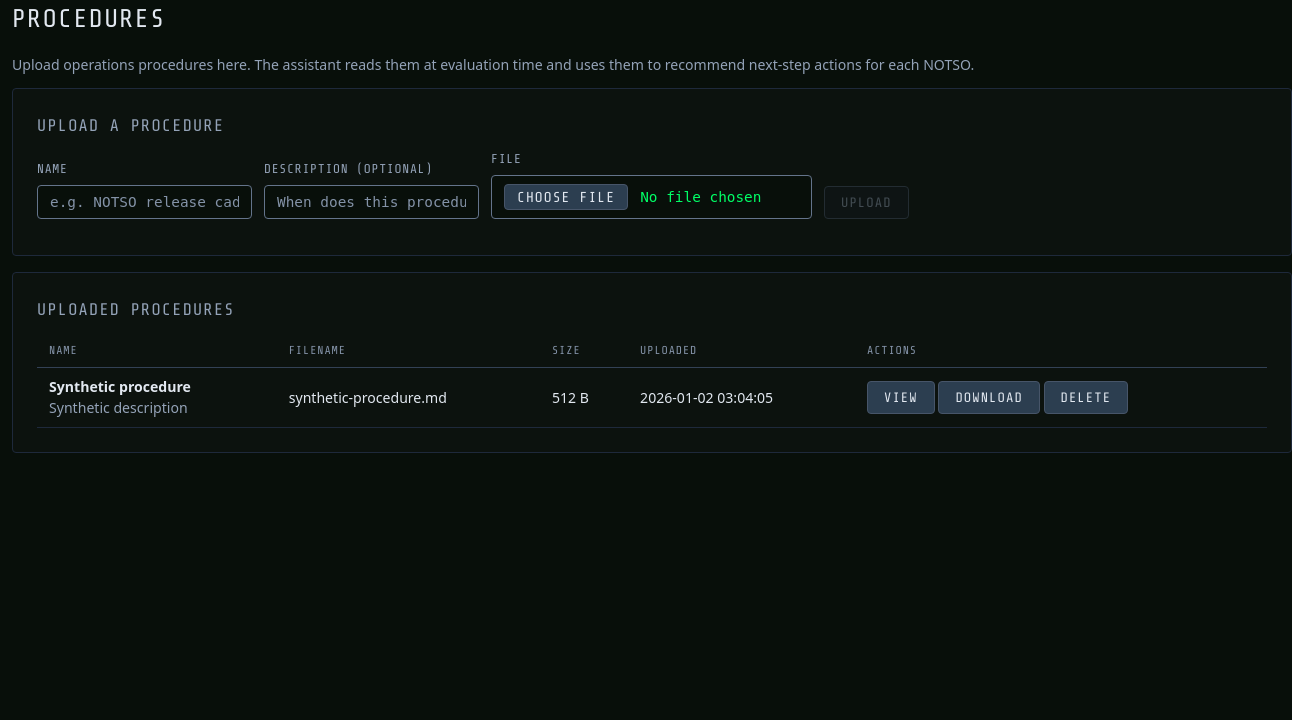
Test case: the procedures page › shows why a download failed, or that it failed, and clears that when one works
Click the button "Download" at (989, 397), box 938,381 -> 1040,414
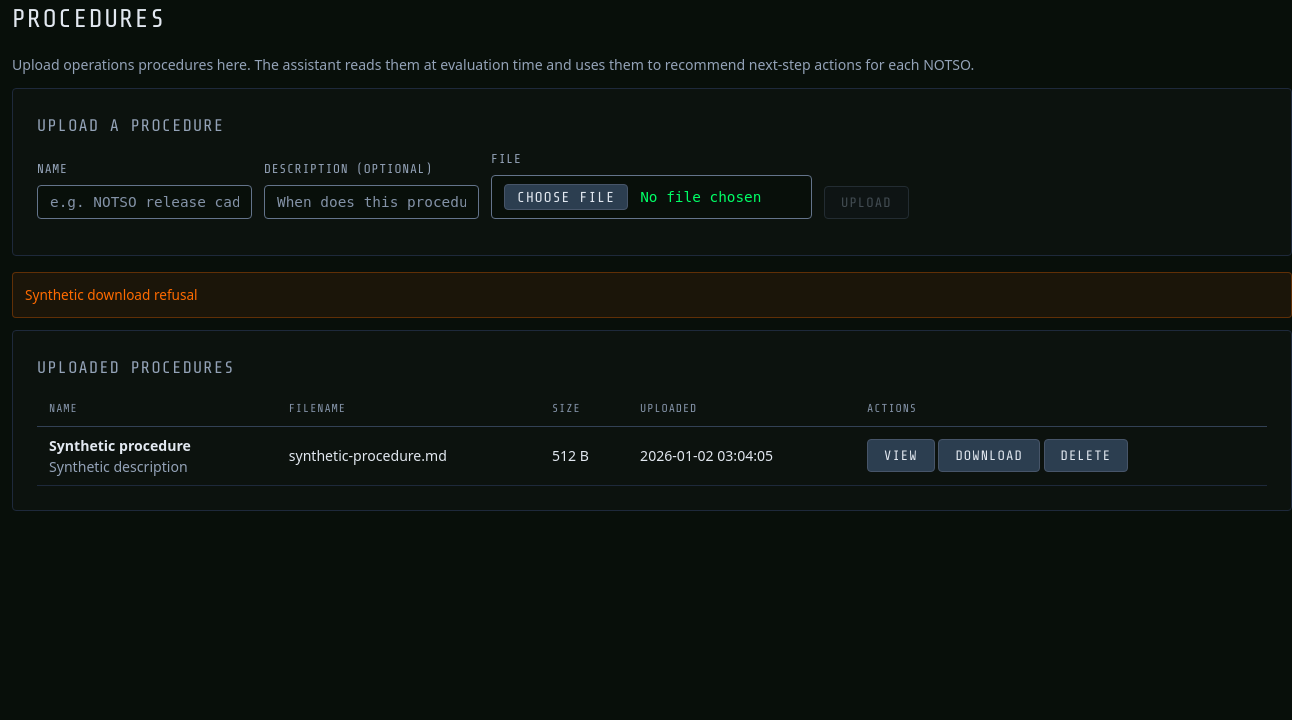
Result: the text "Synthetic download refusal" is shown at 12,272 -> 1291,318
Click the button "Download" at (989, 456), box 938,439 -> 1040,472
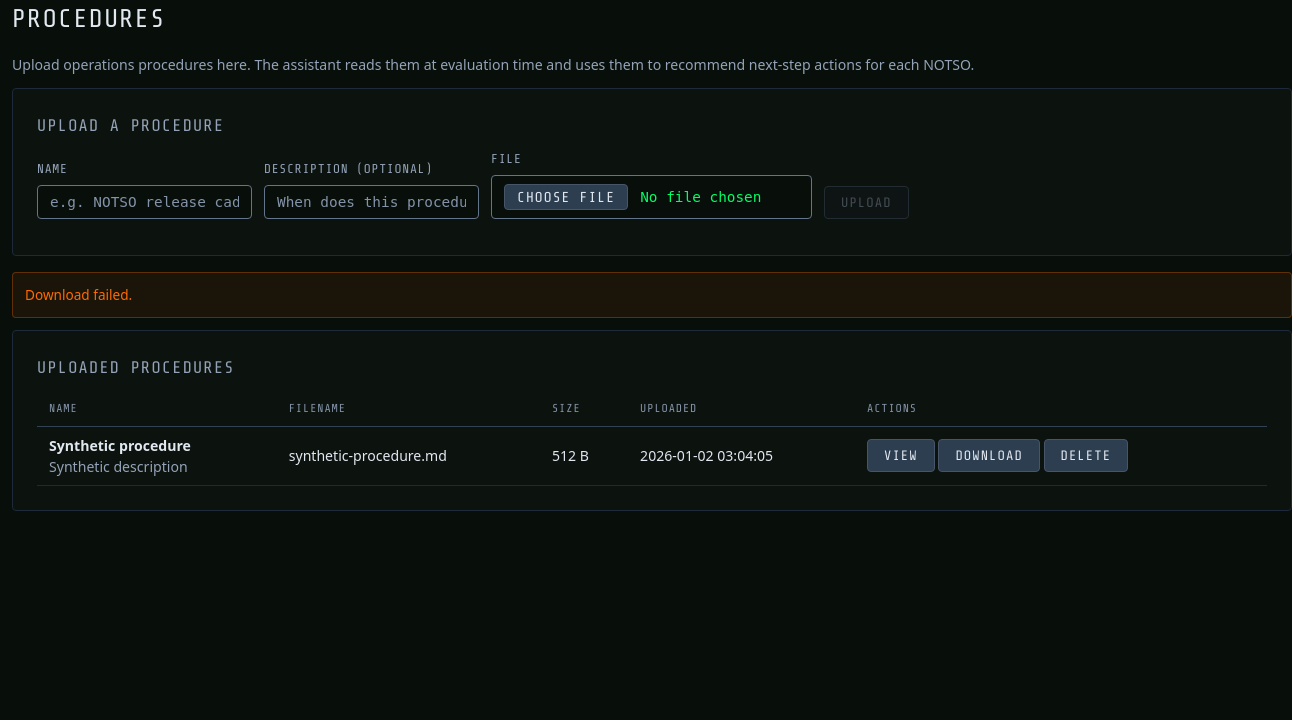
Result: the text "Download failed." is shown at 12,272 -> 1291,318
Click the button "Download" at (989, 456), box 938,439 -> 1040,472
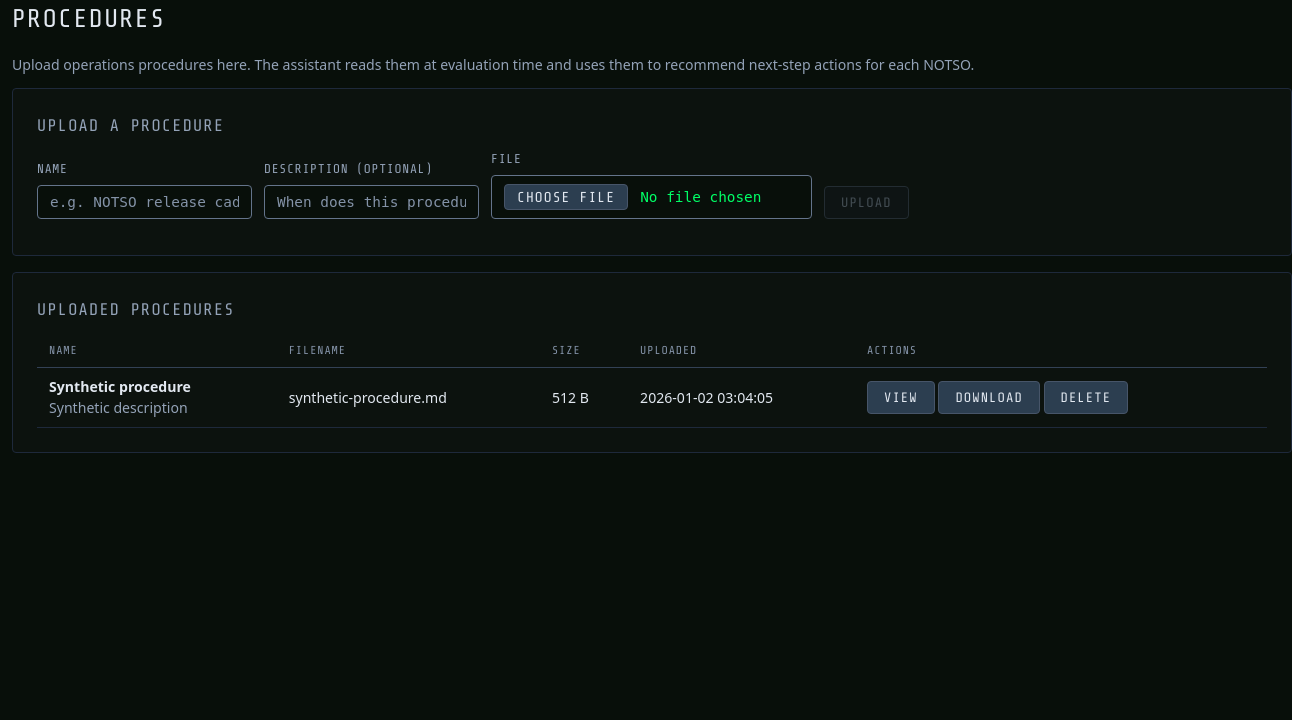
Result: the text "Download failed." is gone
